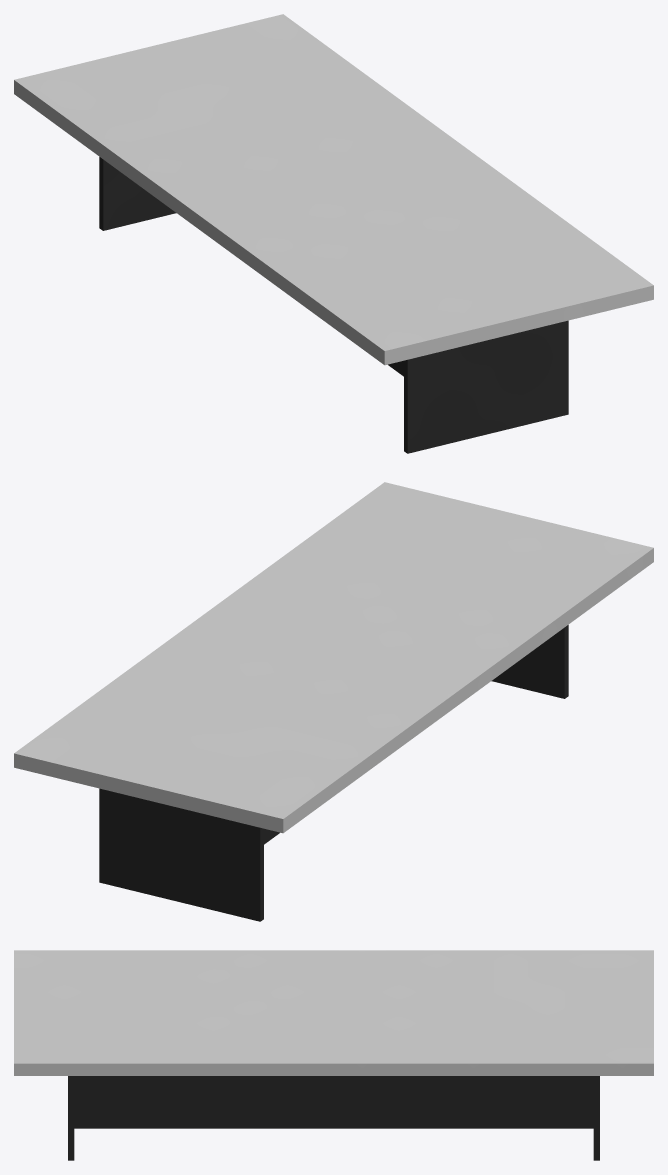
File: Meeting_Table_03.fbx
3 renders of one model, top to bottom at view 1: azimuth 30°, elevation 25°; view 2: azimuth 150°, elevation 25°; view 3: azimuth 270°, elevation 25°, orthographic. The views are drawn at different scales.
Parts seen in each view (by area): view 1: Meeting_Table_03; view 2: Meeting_Table_03; view 3: Meeting_Table_03.
Part boxes in pixels (box(x1,y1,x2,y2)): Meeting_Table_03: box(14, 14, 653, 453); Meeting_Table_03: box(14, 482, 653, 921); Meeting_Table_03: box(14, 950, 653, 1160).
Size of the model in its own units: 1.39 by 0.6867 by 3.32.
